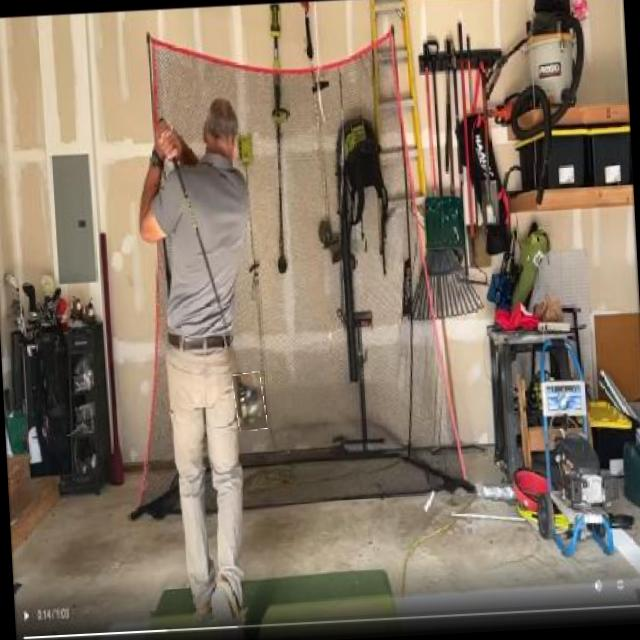club head: (232, 372, 268, 432)
